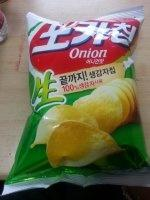snack: (0, 5, 150, 196)
